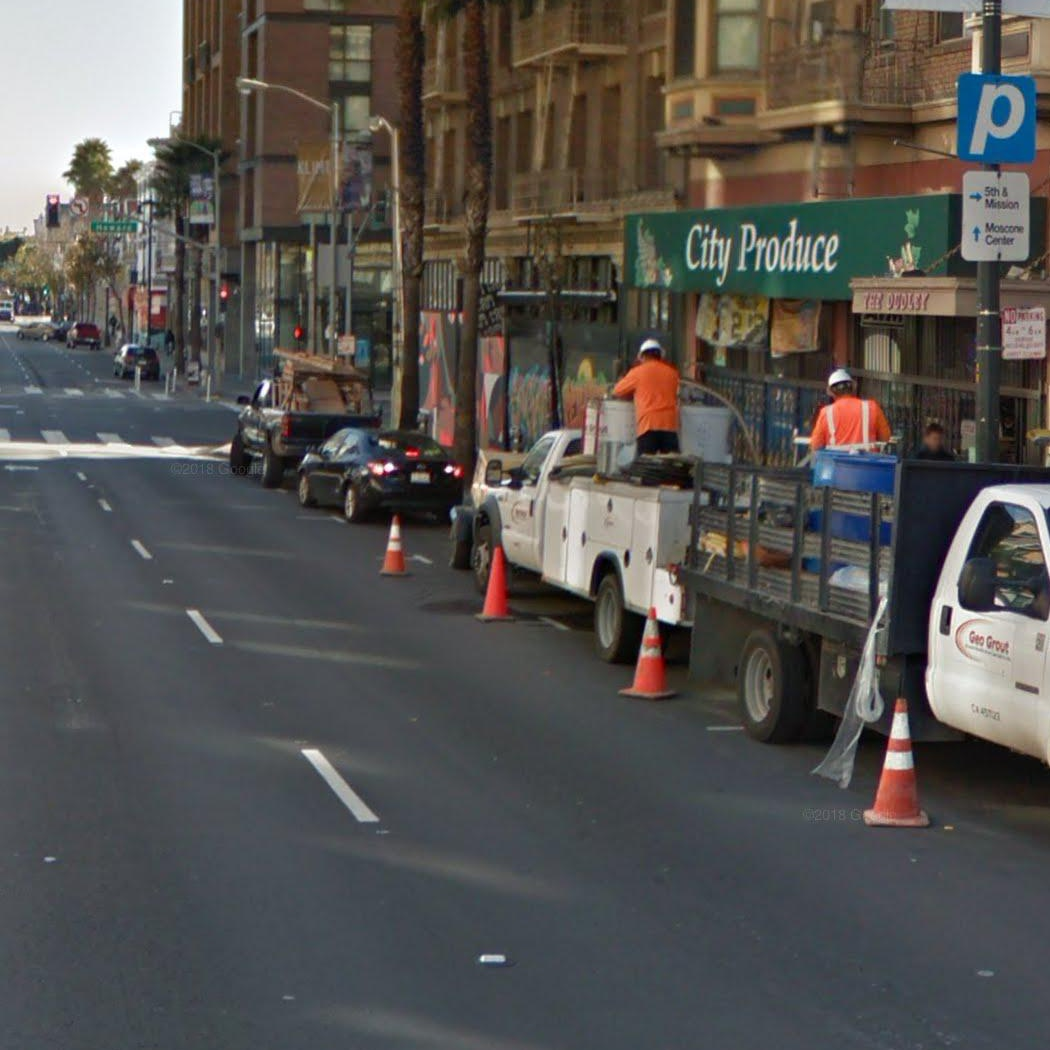No Parking: (1002, 305, 1047, 360)
